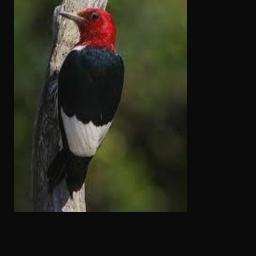Woodpecker: (47, 8, 127, 198)
